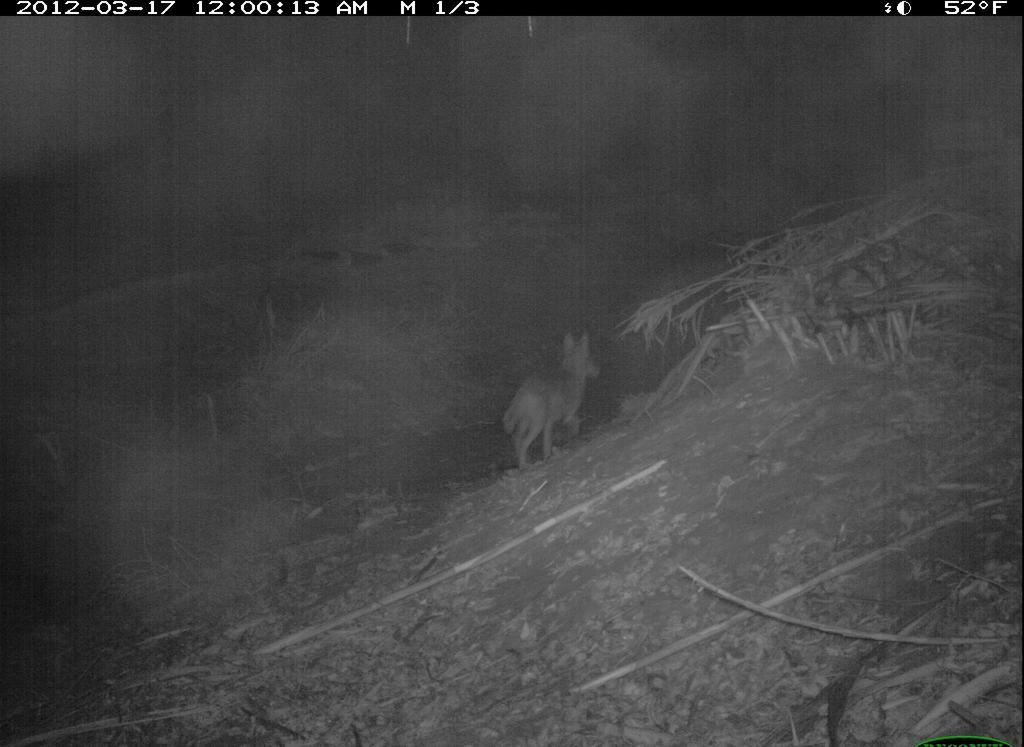coyote: (493, 329, 609, 469)
